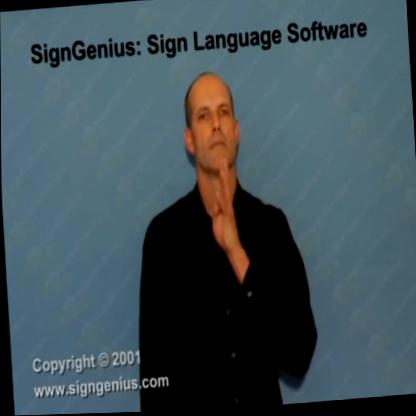Talk: (119, 62, 317, 413)
